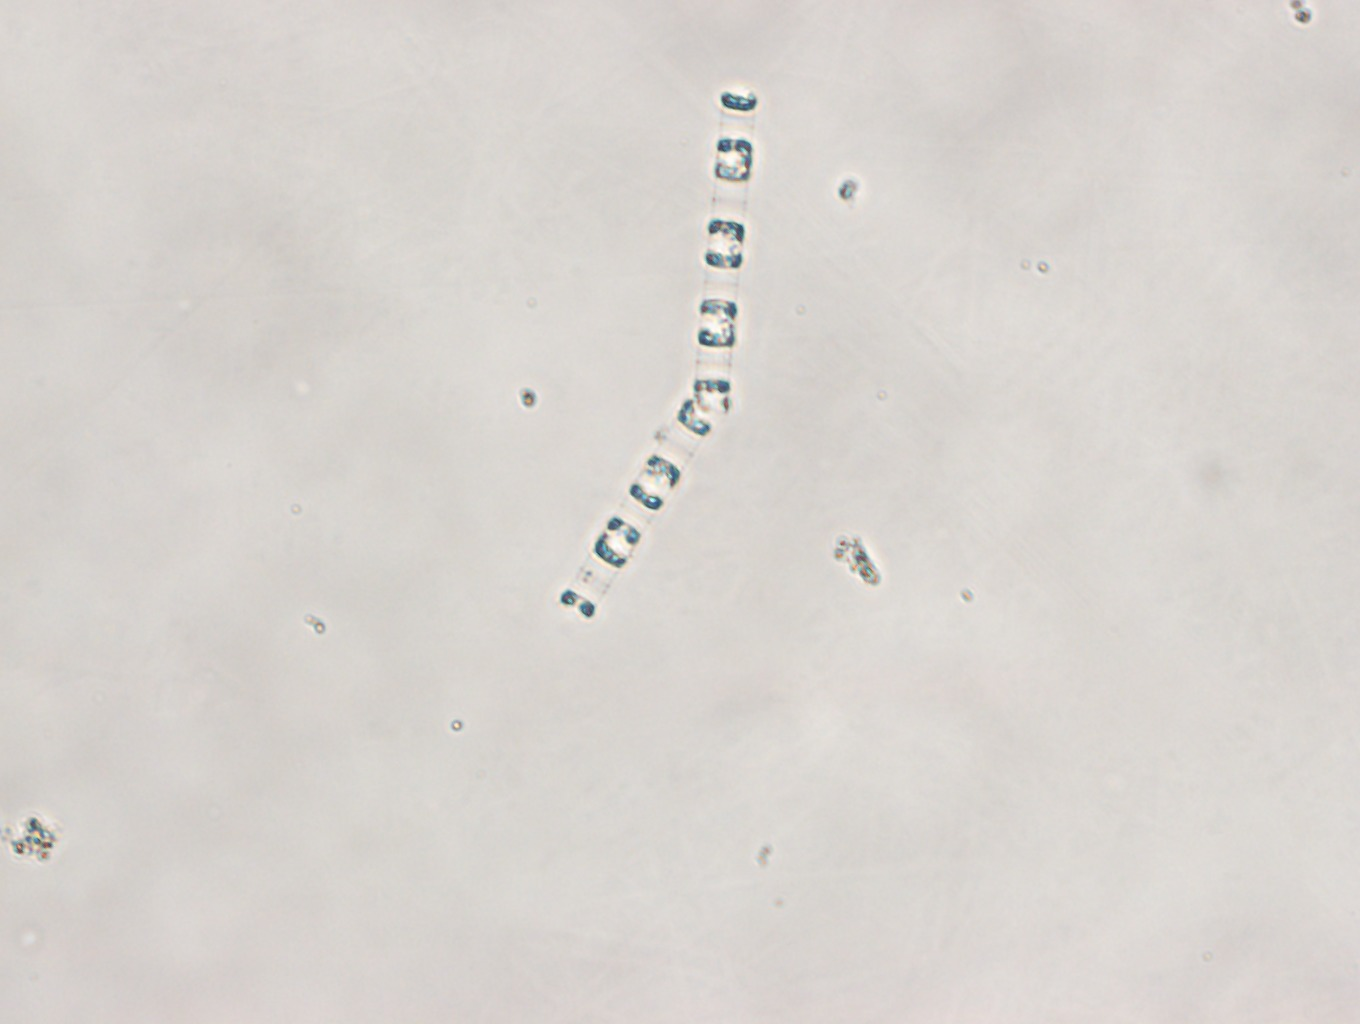skeletonema: (561, 89, 758, 618)
